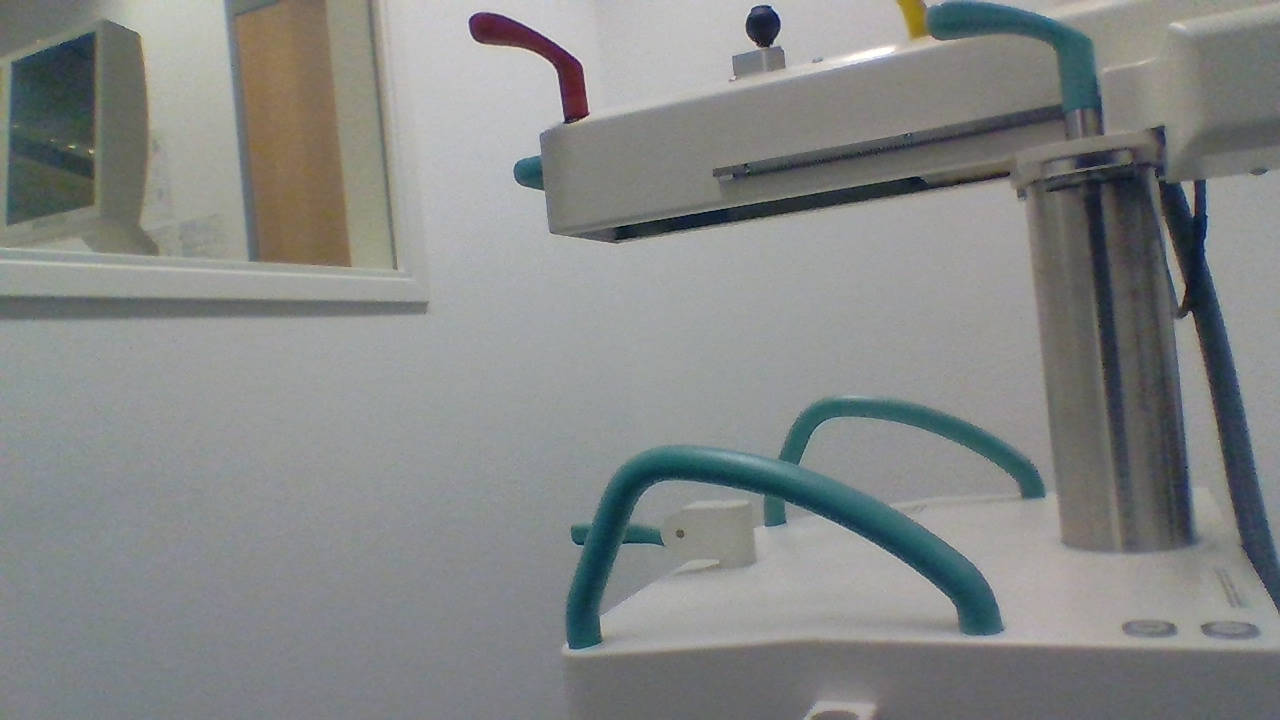carmBACK: (569, 493, 758, 570)
